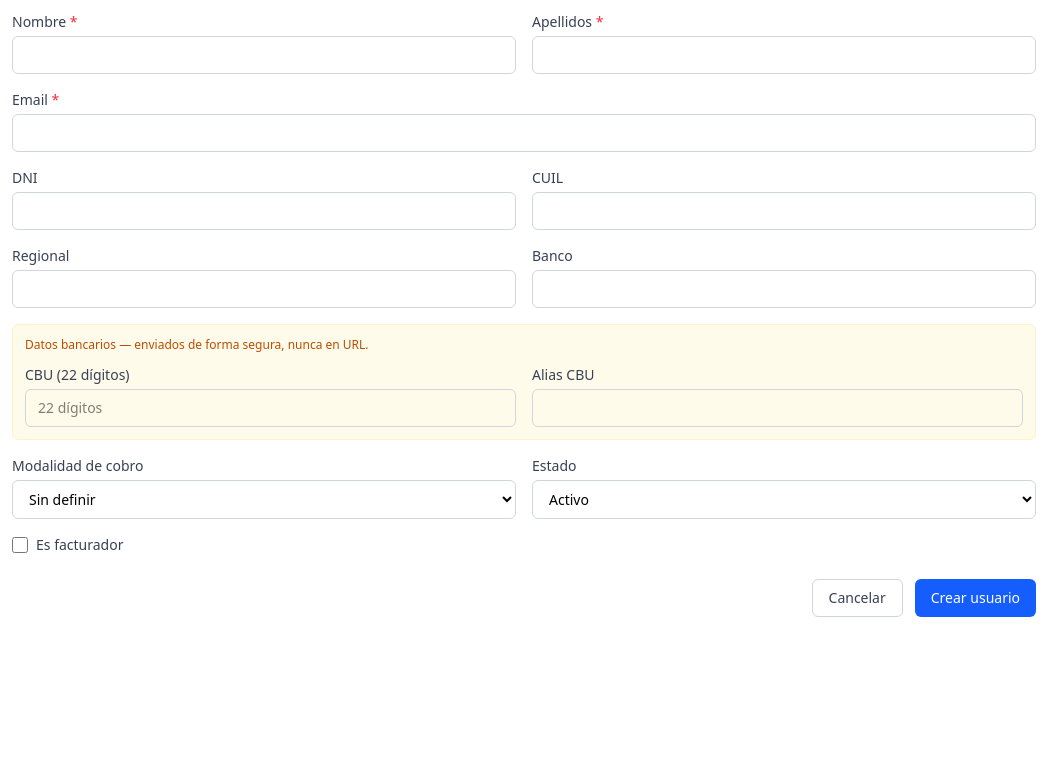
Test: UsuarioAdminForm › 12.5a: required fields — submitting empty form shows errors
Click the button "Crear usuario". click: click(975, 598)
box: [915, 579, 1036, 617]
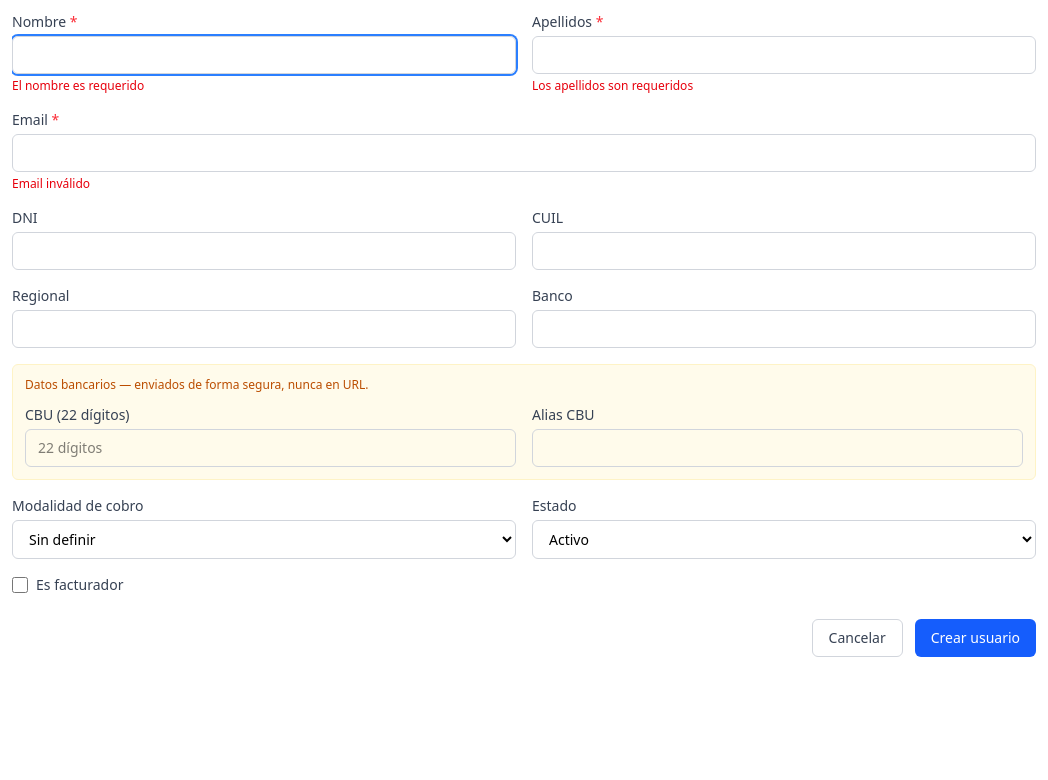
Result: the text "El nombre es requerido" is shown at [12, 77, 144, 94]
